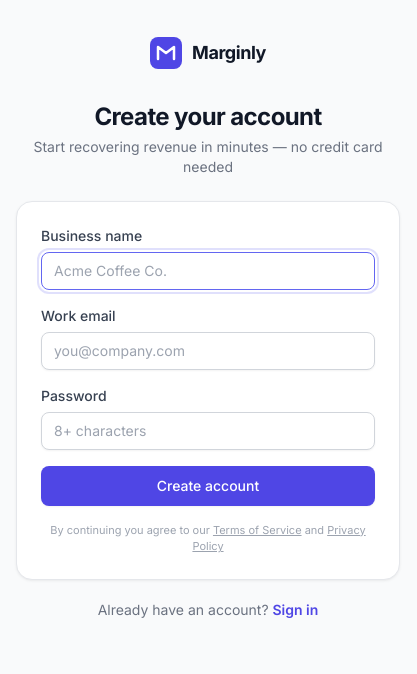
Test case: SignupPage › shows business name validation error on empty submit
This screenshot has width=417, height=674.
Click the button "Create account": [208, 486] box [41,466,375,506]
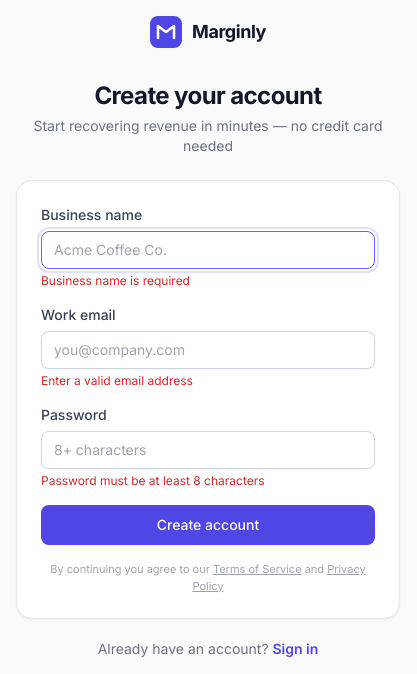
Now the text "Business name is required" is shown, box [41,273,190,288]
